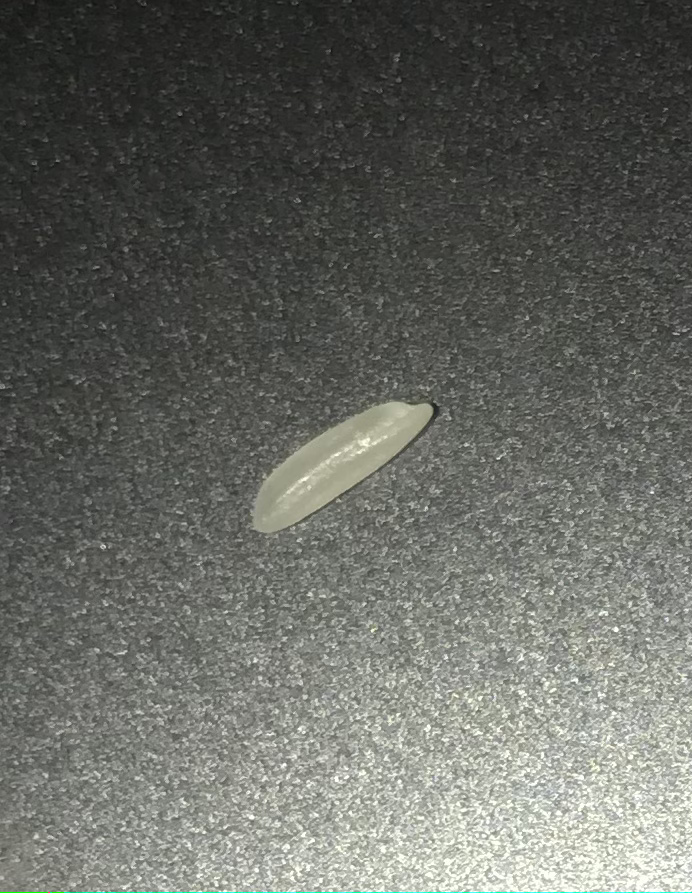Gao Long Lai: (249, 392, 439, 541)
